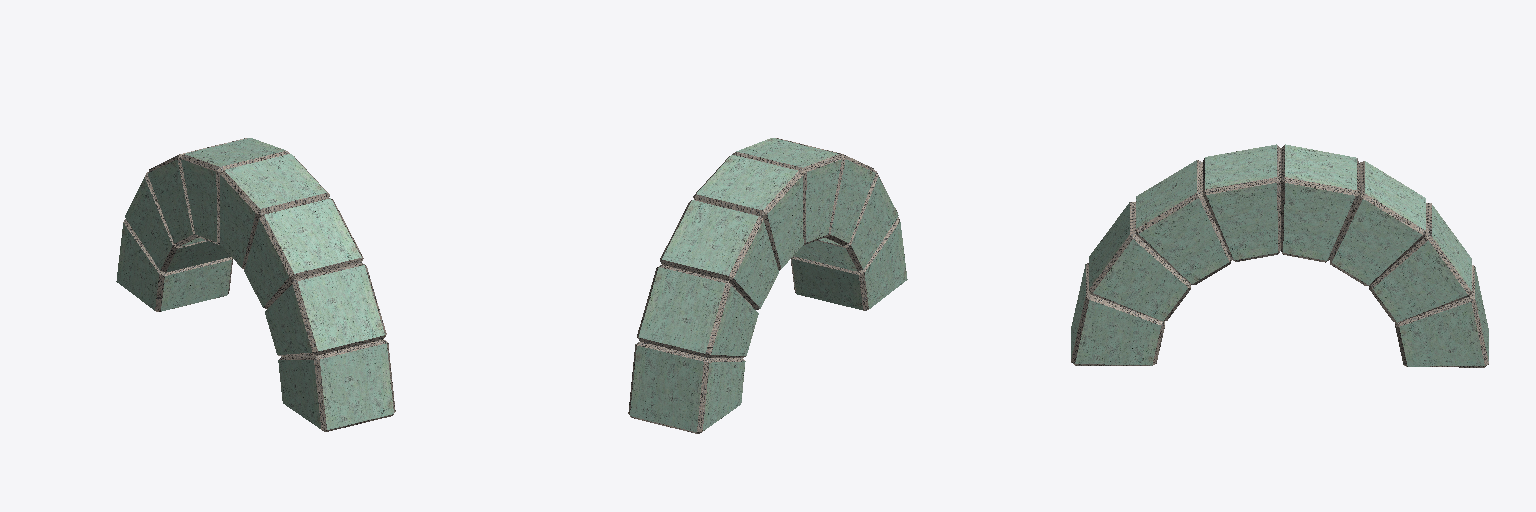
The picture shows the model from 3 angles: view 1: azimuth 30°, elevation 25°; view 2: azimuth 150°, elevation 25°; view 3: azimuth 270°, elevation 25°; orthographic projection.
Parts seen in each view (by area): view 1: Cube_Cube.002; view 2: Cube_Cube.002; view 3: Cube_Cube.002.
Part boxes in pixels (x1,y1,x2,y2): Cube_Cube.002: (116, 138, 395, 431); Cube_Cube.002: (628, 138, 907, 433); Cube_Cube.002: (1071, 144, 1488, 367).
Size of the model in its own units: 0.6 by 1.47 by 2.92.
2 materials, 2 textured.